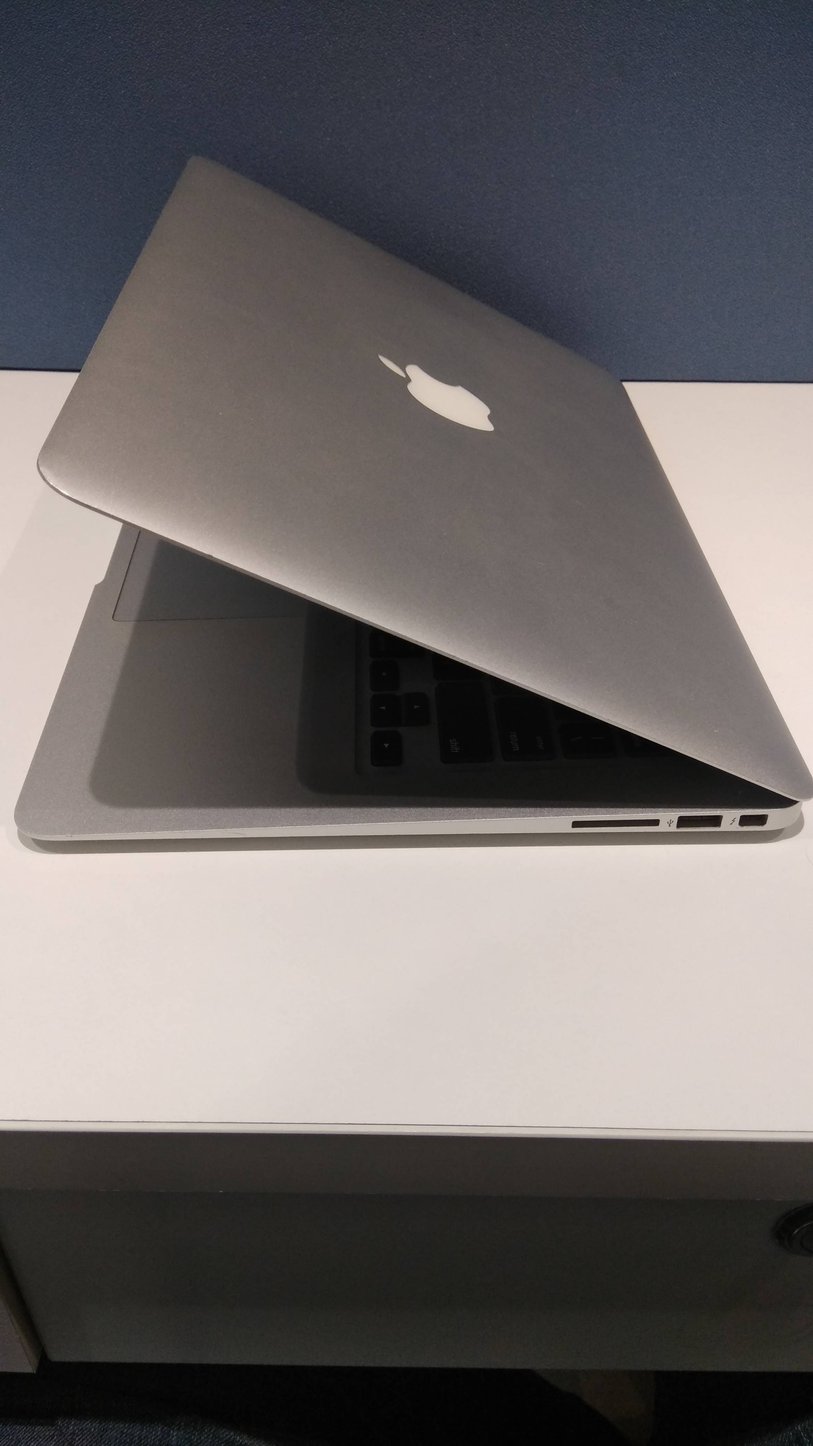Electronics: (7, 136, 813, 879)
